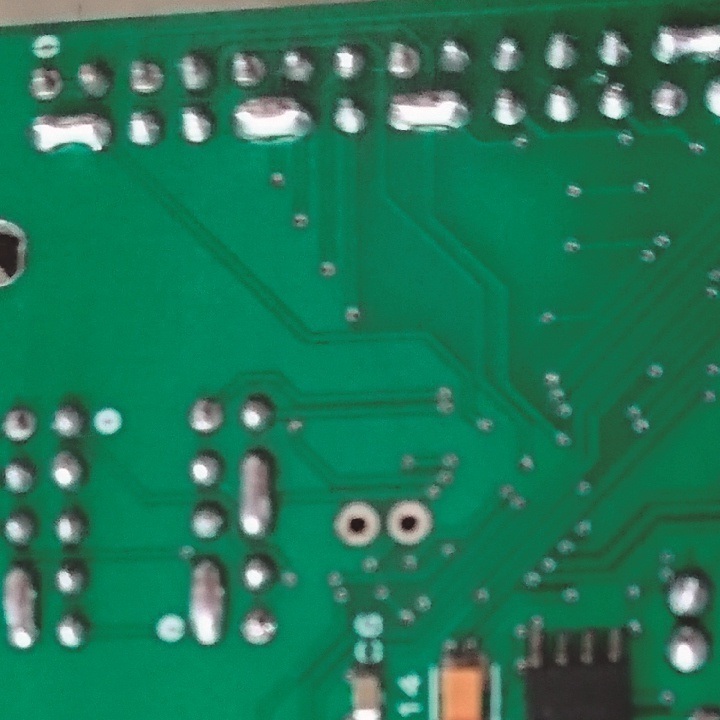F: (328, 500, 382, 548), (382, 500, 433, 546), (123, 54, 167, 100), (237, 606, 277, 652), (650, 80, 693, 122), (184, 396, 227, 437), (382, 40, 427, 79), (227, 49, 269, 88), (1, 406, 41, 446), (27, 65, 64, 102)
P: (383, 87, 475, 136), (231, 93, 318, 140), (236, 451, 276, 545), (1, 565, 41, 657), (33, 112, 117, 155), (653, 20, 720, 65), (190, 556, 221, 653)
